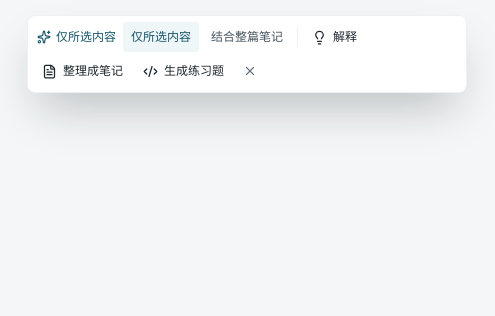
contextual AI selection actions › keeps the panel open on a provider error and lets the user retry
Click the button with aria-label "解释这段内容" at coordinates (334, 37), box x1=304 y1=22 x2=365 y2=52
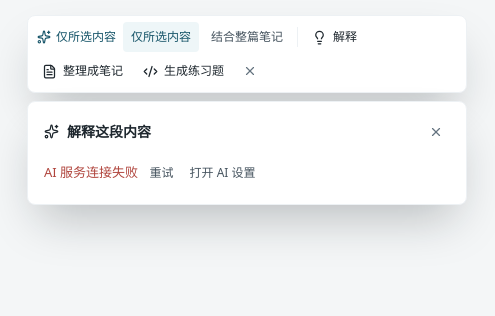
Check: the message shows "AI 服务连接失败", box x1=44 y1=163 x2=138 y2=181
Click the button "重试" at coordinates (162, 173), box x1=142 y1=158 x2=182 y2=188
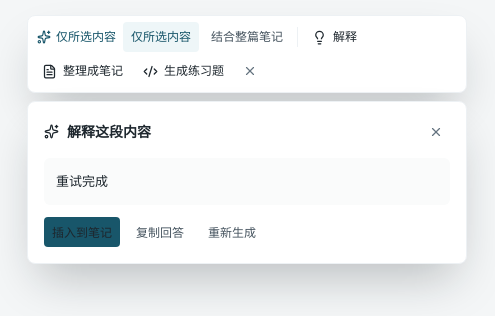
Check: the text "重试完成" is shown, box x1=44 y1=158 x2=450 y2=205
